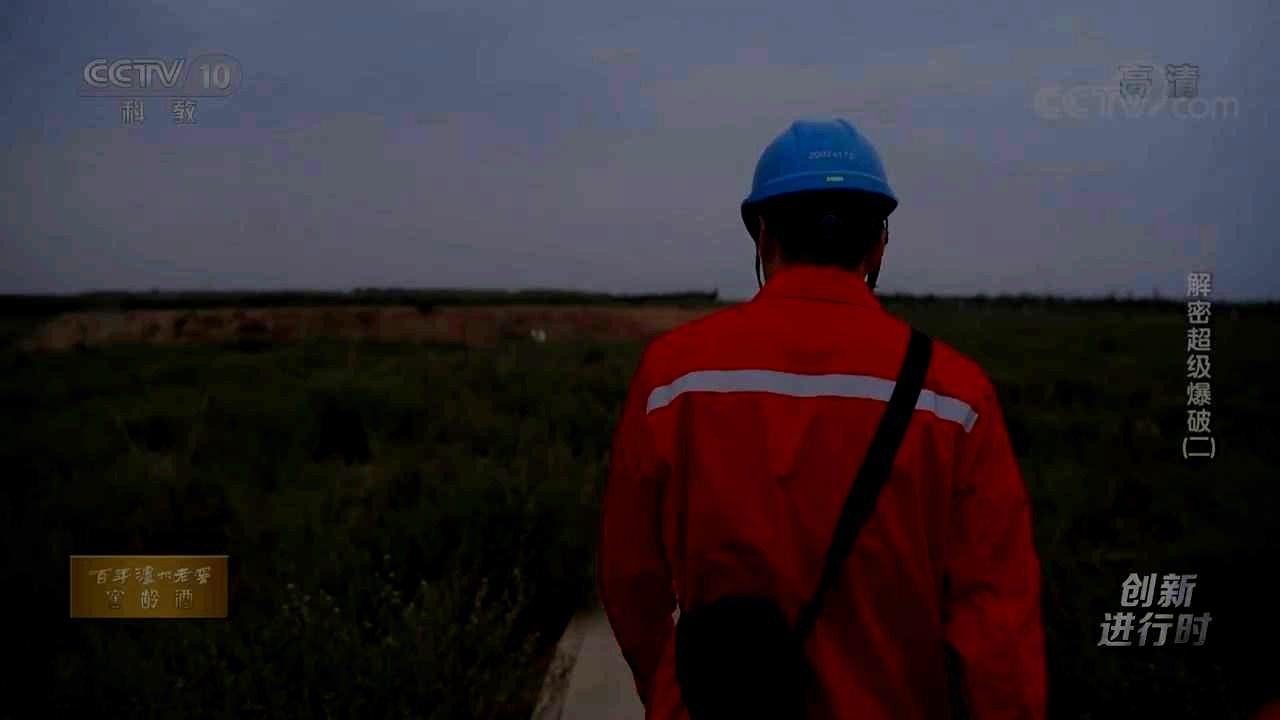helmet: (740, 113, 900, 285)
